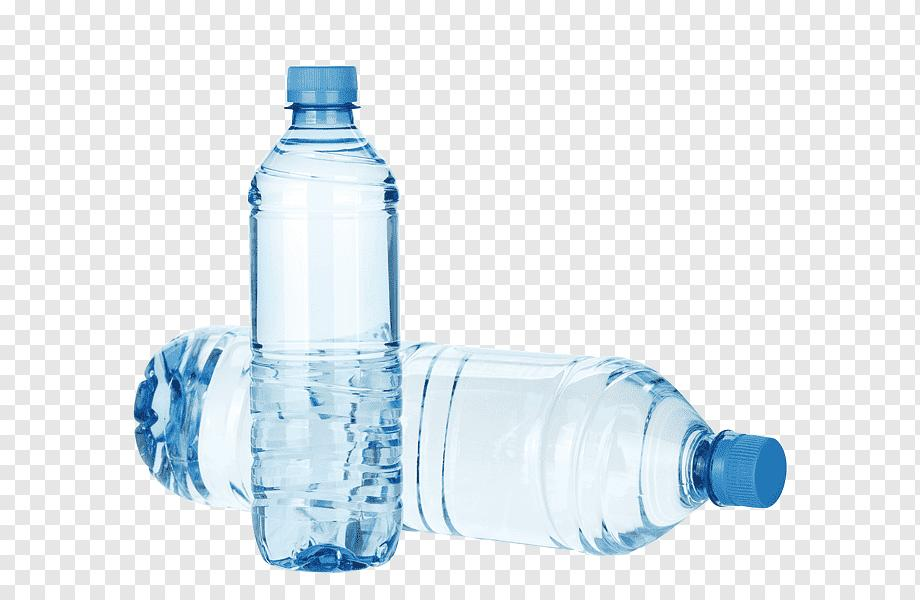bottle: (199, 66, 367, 550)
